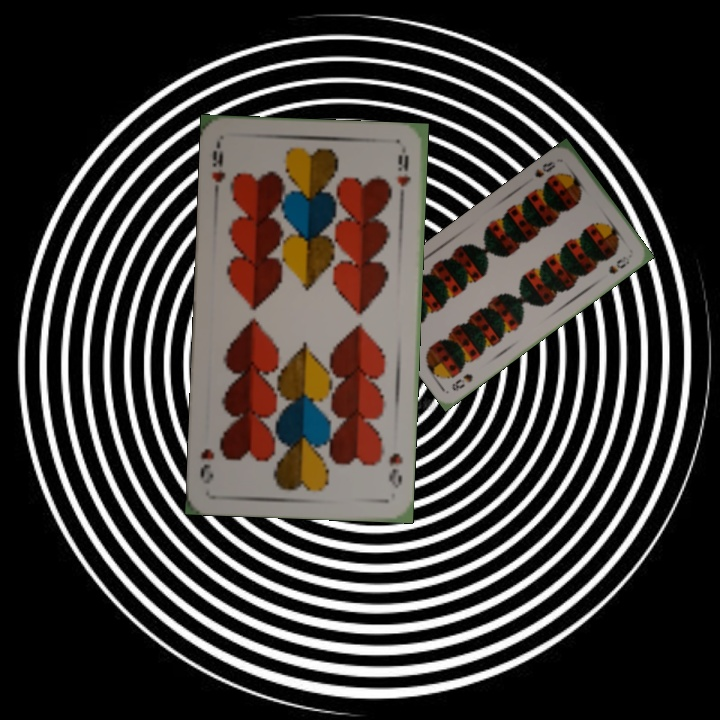H9: (208, 140, 228, 199), (384, 449, 405, 490)
S8: (448, 369, 476, 394), (531, 157, 558, 180)
